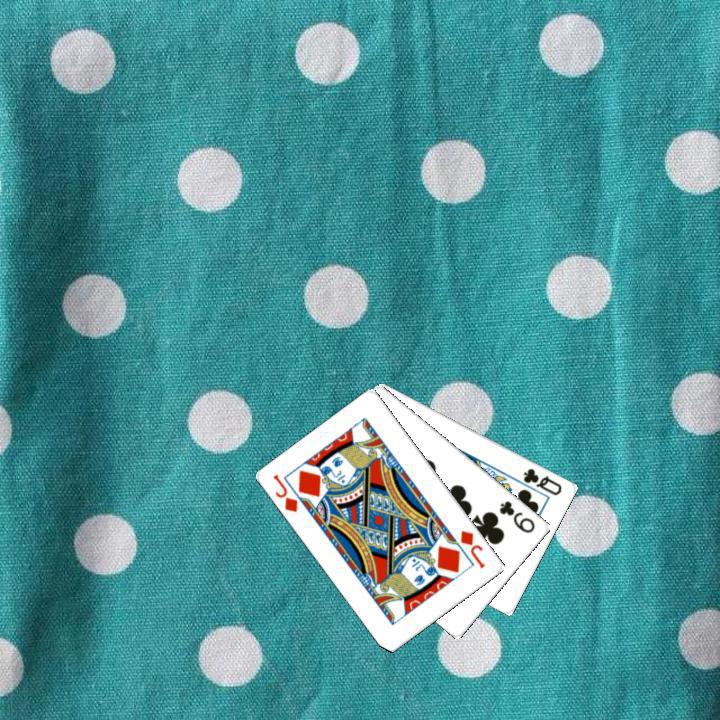9: (495, 496, 538, 535)
J: (268, 470, 300, 515), (456, 526, 488, 570)
Q: (519, 464, 564, 497)
